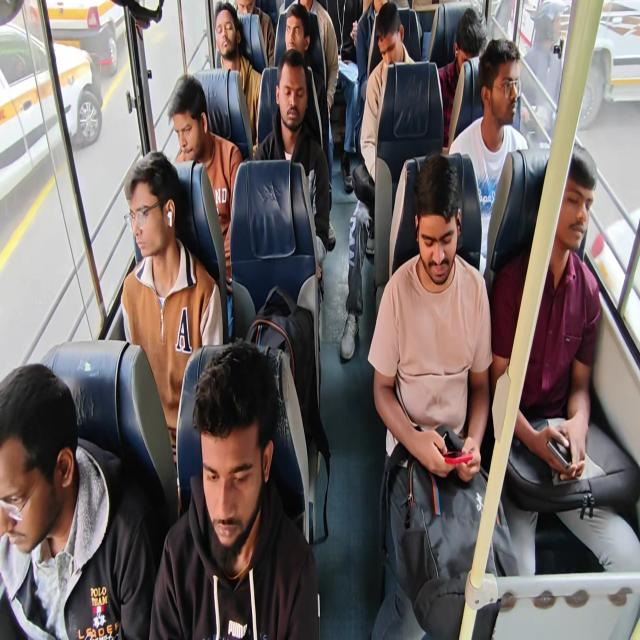person: (489, 141, 639, 584), (367, 152, 502, 638), (148, 339, 320, 639), (0, 362, 156, 639), (120, 150, 223, 506), (339, 2, 416, 360), (167, 73, 243, 340), (447, 37, 529, 277), (252, 48, 330, 284), (274, 2, 338, 250), (340, 0, 388, 192), (436, 6, 488, 146), (213, 1, 262, 146), (283, 3, 329, 149), (519, 0, 564, 140), (235, 0, 274, 69)
